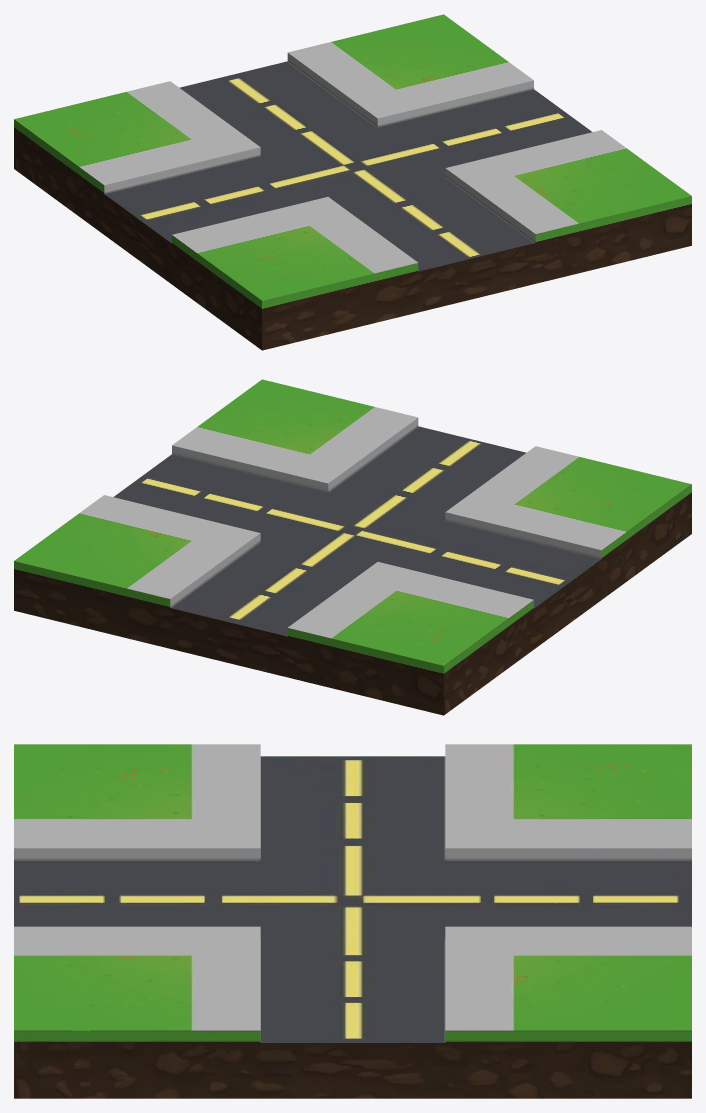
The model's file is city_road_03.glb.
The picture shows the model from 3 angles, top to bottom: view 1: azimuth 30°, elevation 25°; view 2: azimuth 150°, elevation 25°; view 3: azimuth 270°, elevation 25°; orthographic projection. The views are drawn at different scales.
Visible parts, largest first — view 1: road_03; view 2: road_03; view 3: road_03.
Part boxes in pixels (x1,y1,x2,y2): road_03: (14, 14, 691, 350); road_03: (14, 379, 691, 715); road_03: (14, 744, 691, 1098).
Bounding box in the file's own units: 22 × 2.43 × 22.
1 material, 1 textured.
